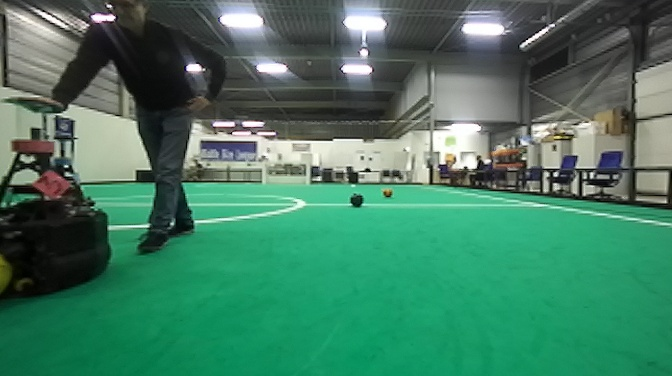ball: (1, 251, 12, 308), (344, 190, 365, 210), (379, 186, 395, 199)
goal: (260, 163, 311, 189)
goalpost: (261, 163, 267, 187), (305, 165, 311, 187)
robot: (1, 92, 116, 305)
